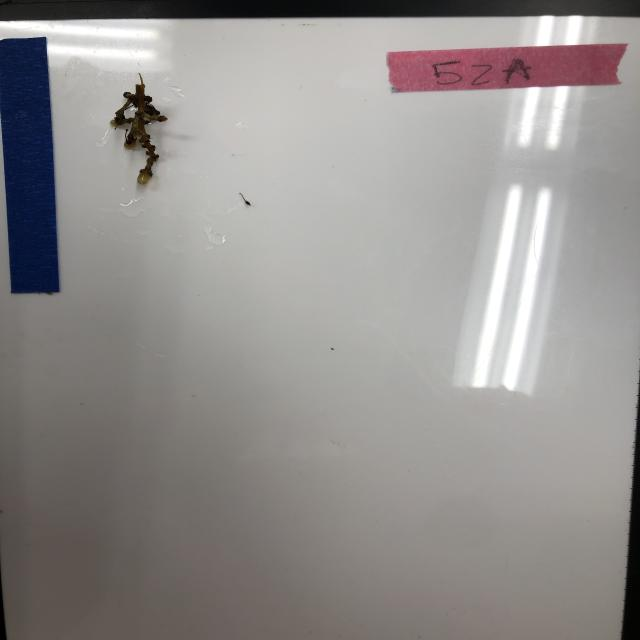grape_cluster: (108, 70, 174, 186)
index: (387, 40, 630, 96)
measure_label: (1, 37, 62, 297)
